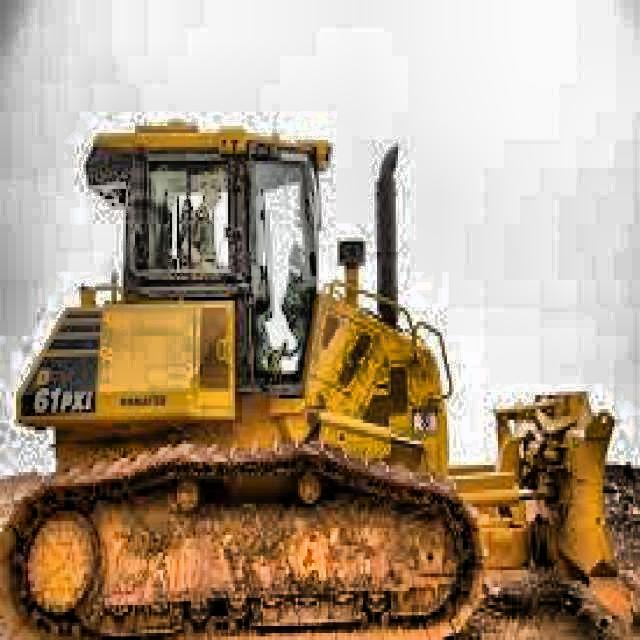bull_dozer/loader/grader: (2, 106, 640, 640)
person: (187, 172, 225, 270)
